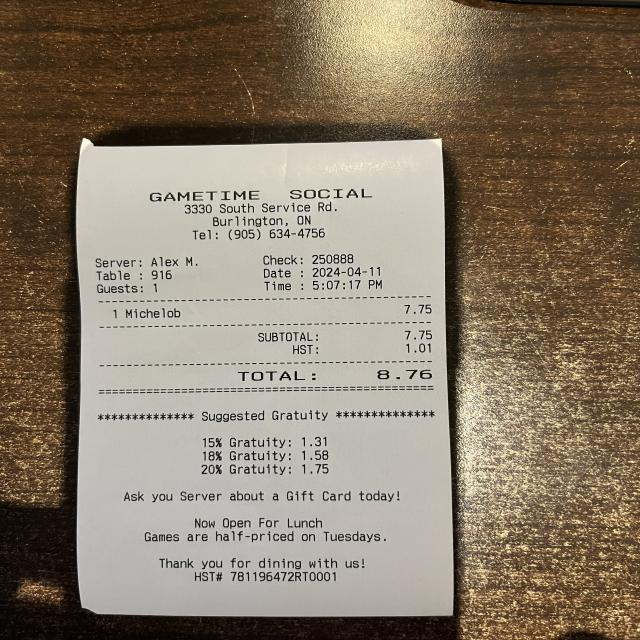item: (120, 302, 443, 322)
store_name: (146, 184, 376, 206)
total_amount: (232, 363, 439, 388)
transaction_date: (306, 264, 389, 282)
